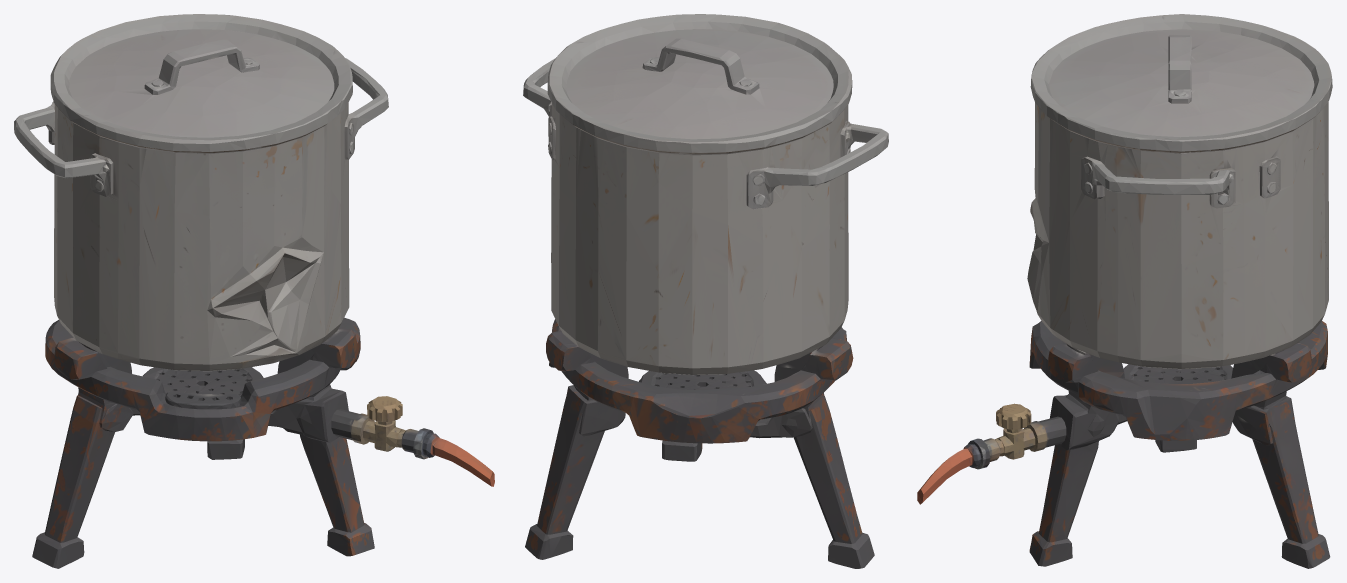
The model's file is stockpot_burner.glb.
The picture shows the model from 3 angles, left to right: view 1: azimuth 30°, elevation 25°; view 2: azimuth 150°, elevation 25°; view 3: azimuth 270°, elevation 25°; orthographic projection.
Parts seen in each view (by area): view 1: stockpot_burner; view 2: stockpot_burner; view 3: stockpot_burner.
Boxes of the visible parts, x1,y1,x2,y2 form: stockpot_burner: [14, 14, 494, 568]; stockpot_burner: [523, 14, 888, 568]; stockpot_burner: [917, 14, 1332, 568].
Bounding box in the file's own units: 0.656 × 0.9 × 0.721.
1 material, 1 textured.
